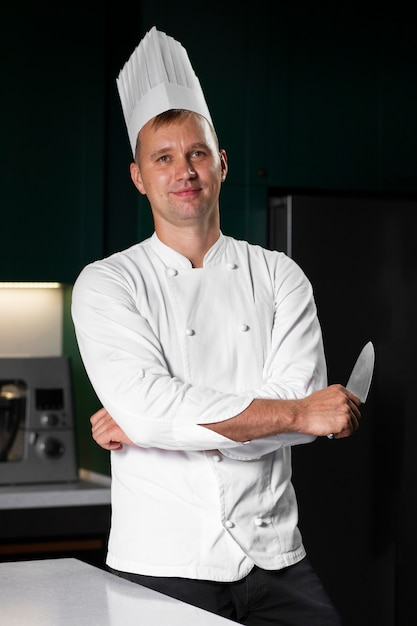knife: (342, 339, 380, 405)
